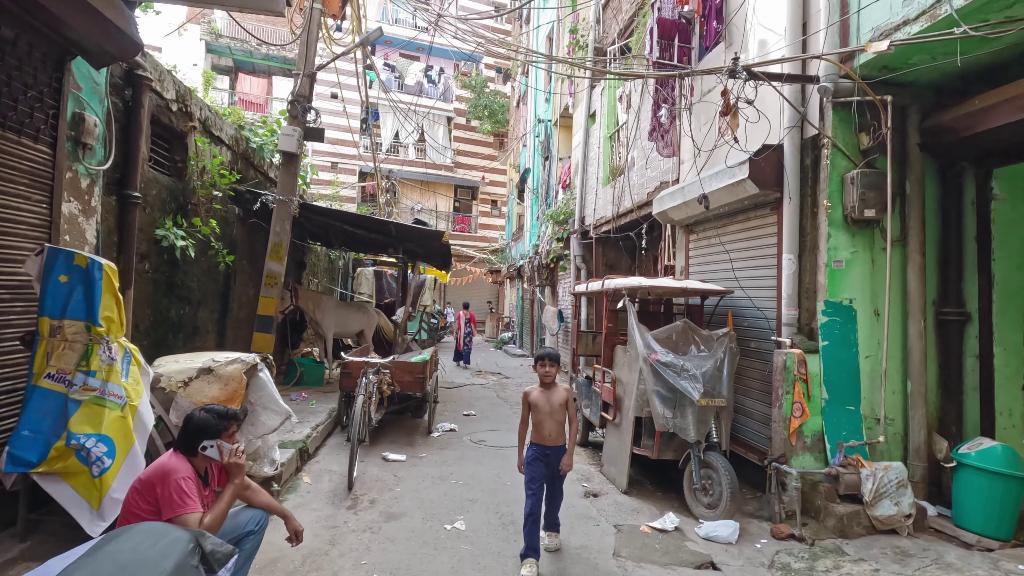dustbin: (945, 433, 1024, 546)
garbage: (696, 513, 743, 546), (644, 508, 679, 539), (443, 515, 469, 535), (379, 449, 410, 465), (433, 420, 459, 439), (285, 387, 309, 404), (461, 411, 477, 417)
